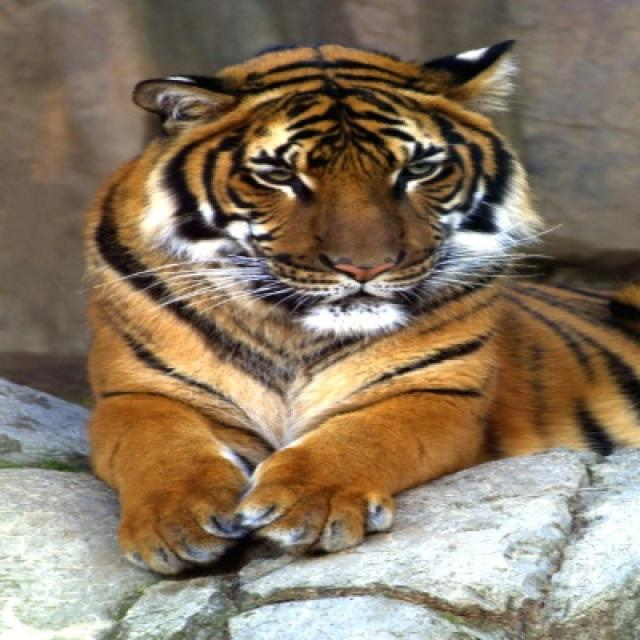Tiger: (88, 42, 638, 573)
